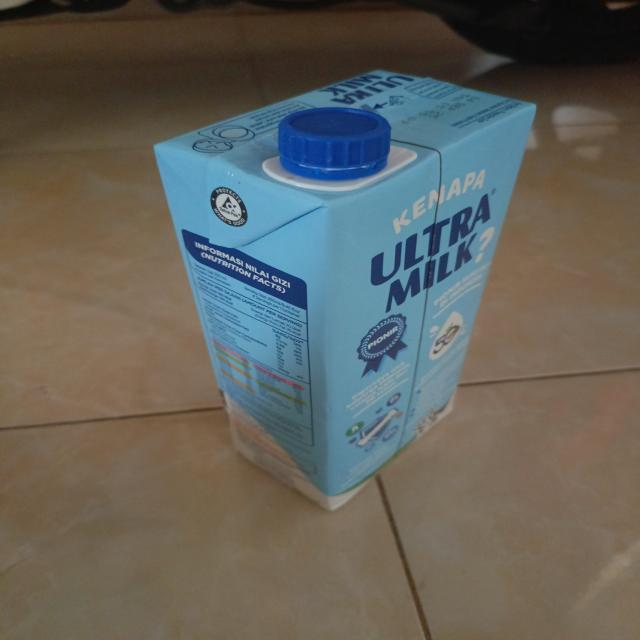ultramilk-full-cream: (152, 66, 535, 516)
